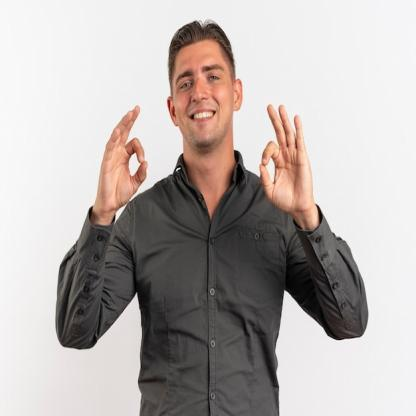ok: (254, 100, 316, 216), (93, 100, 149, 212)
